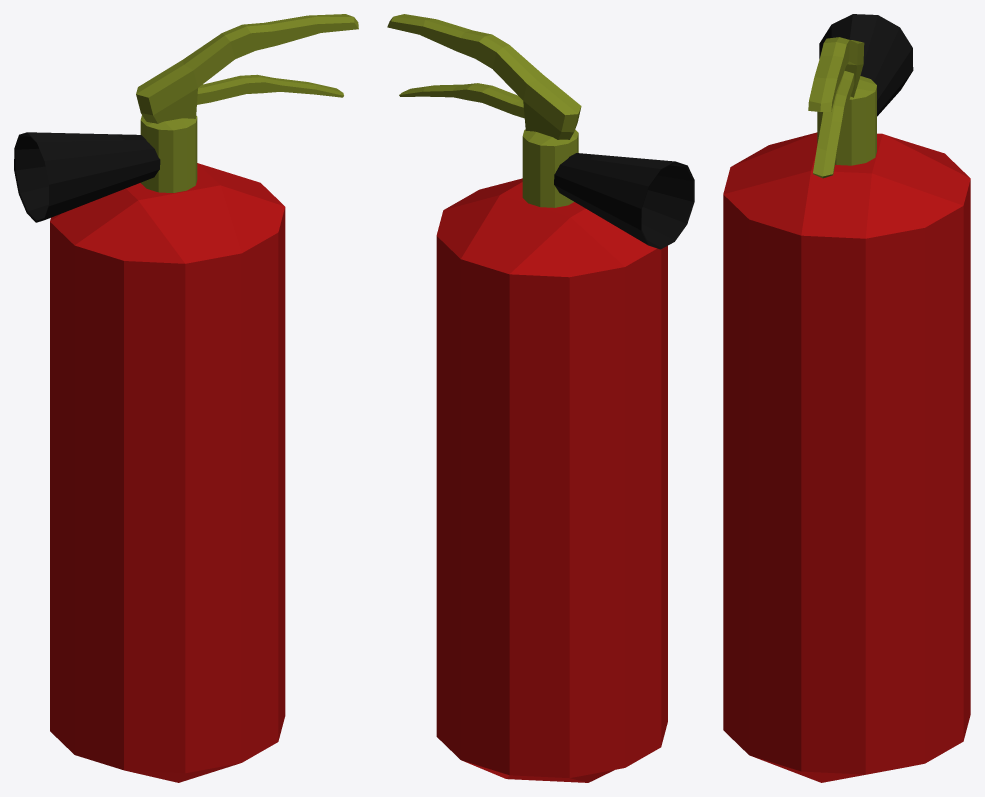
Rendered from extintor_v2(i).fbx.
The picture shows the model from 3 angles, left to right: view 1: azimuth 30°, elevation 25°; view 2: azimuth 150°, elevation 25°; view 3: azimuth 270°, elevation 25°; orthographic projection. The views are drawn at different scales.
Visible parts, largest first — view 1: extintor; view 2: extintor; view 3: extintor.
Boxes of the visible parts, x1,y1,x2,y2 form: extintor: [14, 14, 358, 782]; extintor: [387, 14, 694, 782]; extintor: [723, 14, 970, 782].
Bounding box in the file's own units: 20.29 × 44.85 × 13.35.
